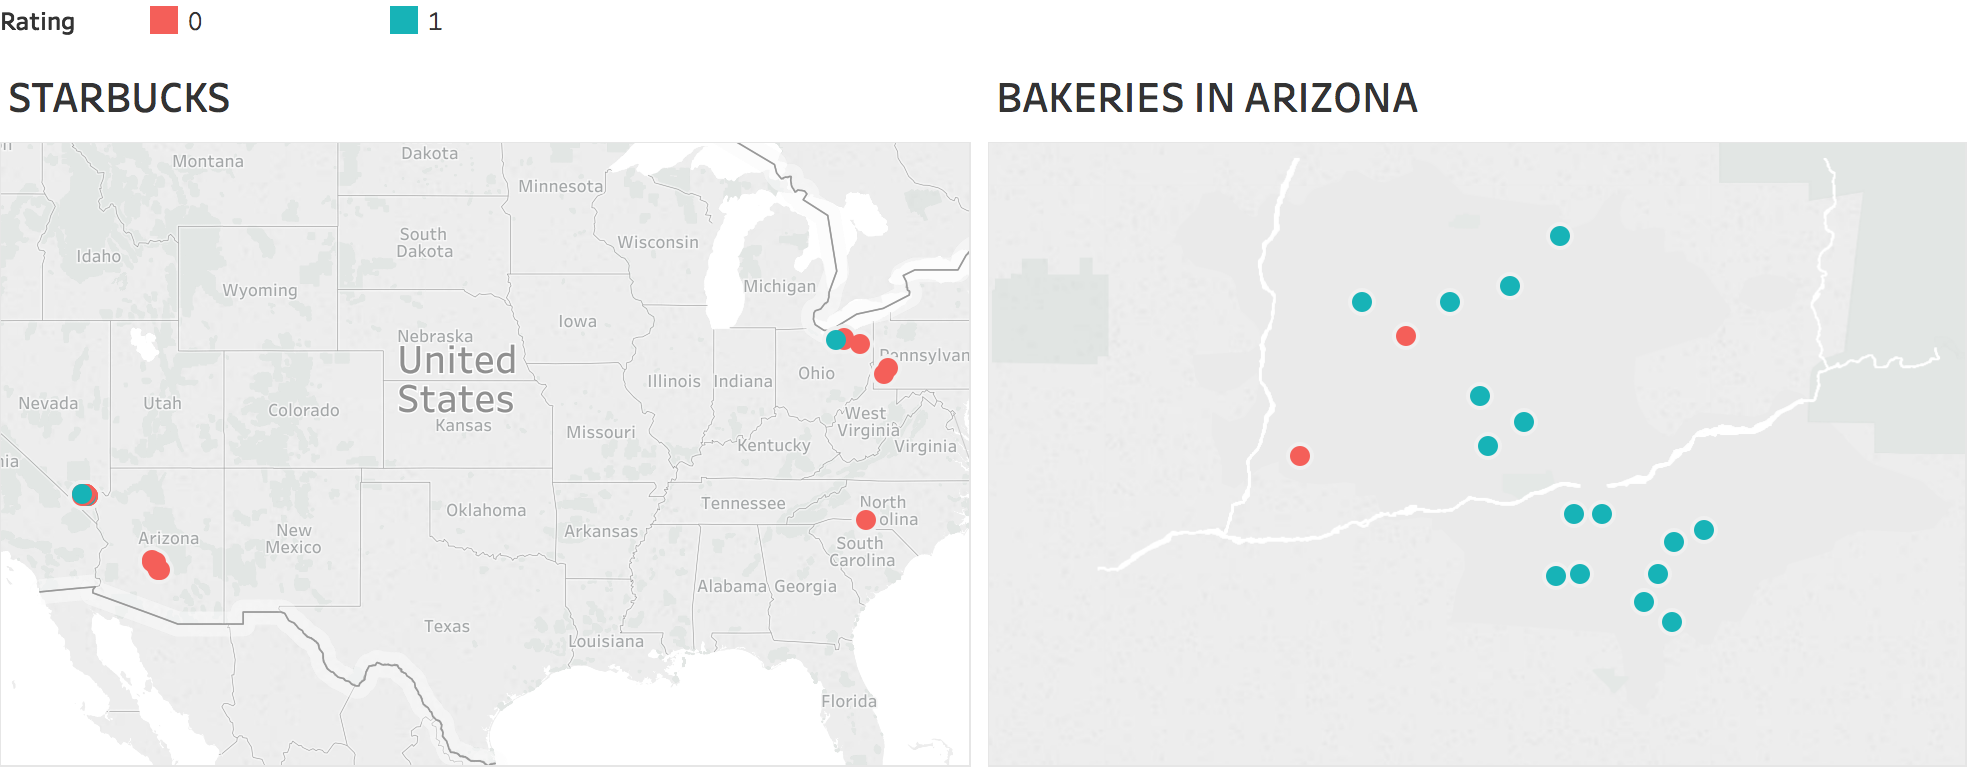

What the dashboard file says about the page in this screenshot:
{"tool":"tableau","page":{"name":"Dashboard 2","canvas":[1000,800],"ordinal":1},"visuals":[{"type":"worksheet","title":"Sheet 5","mark":"Automatic","rows":["Amount"],"cols":["year (global-funding-byYear.csv)"],"box":[0,0,1000,378]},{"type":"legend","title":"Sheet 5","param":"[federated.0tj8wf51snrsmi12ofu6d1w99ebb].[none:Source:nk]","box":[0,378,1000,36]},{"type":"worksheet","title":"Sheet 4","mark":"Automatic","rows":["Estimated_Malaria_Counts"],"cols":["year"],"box":[0,414,1000,354]},{"type":"legend","title":"Sheet 4","param":"[federated.0tj8wf51snrsmi12ofu6d1w99ebb].[none:WHO_region:nk]","box":[0,768,1000,32]}]}

Visuals, with their boxes on the page's 1000x800 design canvas (x1, y1, x2, y2). These are canvas units, not pixel positions in the 1968x768 screenshot, which may show the page scaled, cropped or inside an application window:
"Sheet 5" worksheet: x1=0, y1=0, x2=1000, y2=378
"Sheet 5" legend: x1=0, y1=378, x2=1000, y2=414
"Sheet 4" worksheet: x1=0, y1=414, x2=1000, y2=768
"Sheet 4" legend: x1=0, y1=768, x2=1000, y2=800
